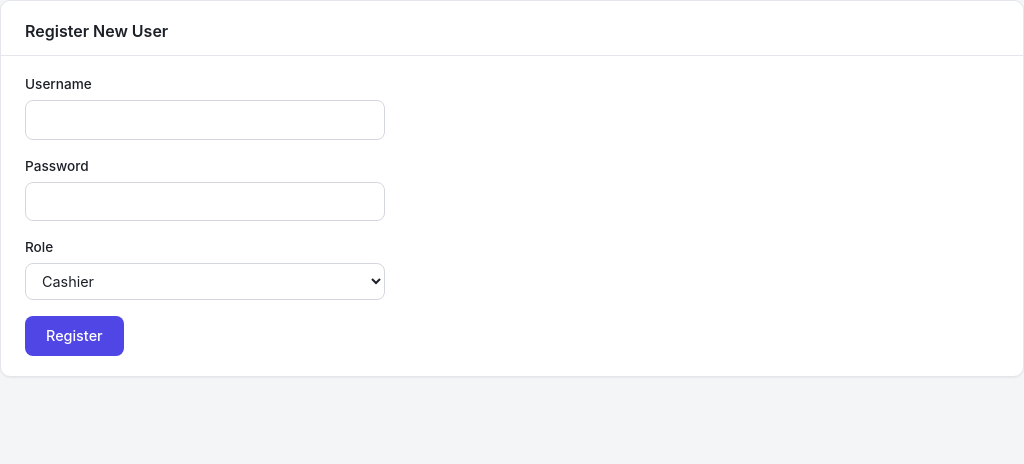
it: UserRegistration › registers a cashier and clears the form
// Leading/trailing spaces are trimmed before the request.
Type " newguy " into the field labelled "Username" at (205, 120), box top-left (25, 100), bottom-right (385, 140)
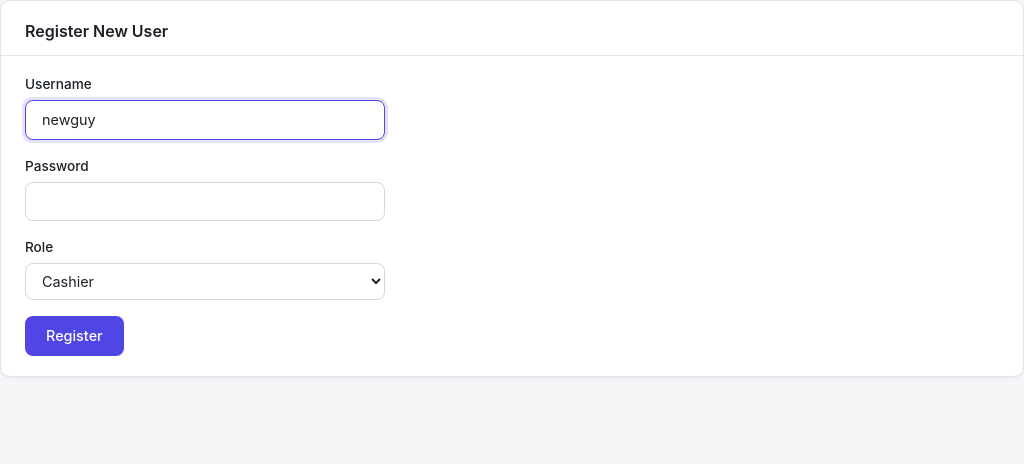
Type "secret" into the password field labelled "Password" at (205, 201), box top-left (25, 182), bottom-right (385, 221)
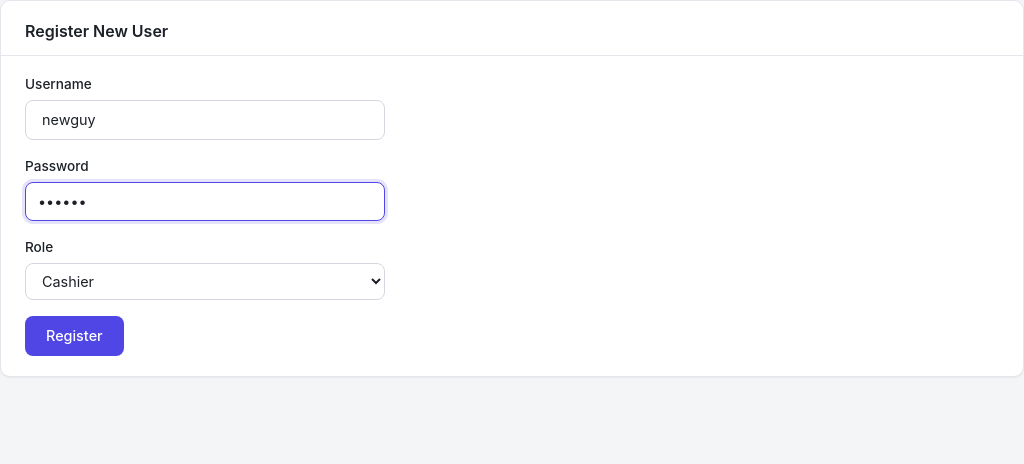
Click the button "Register" at (74, 336), box top-left (25, 316), bottom-right (124, 356)
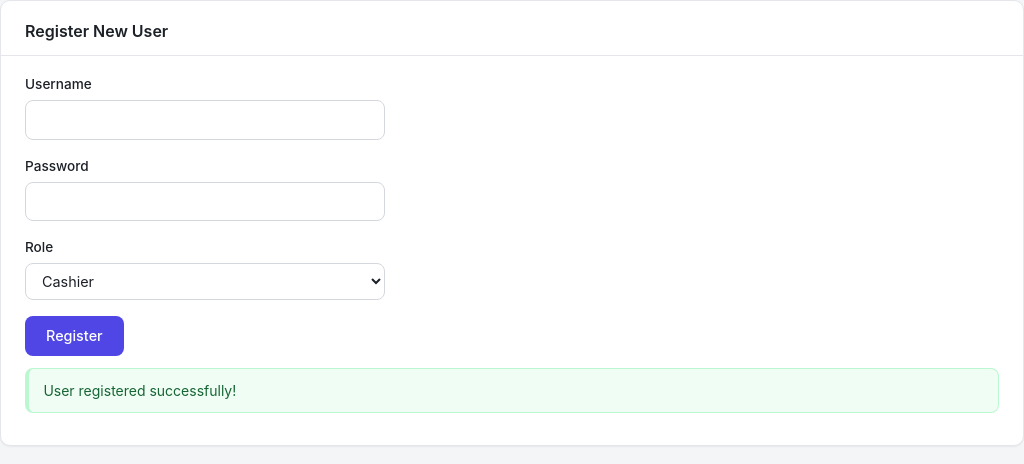
Expected: the text "User registered successfully!" is shown, top-left (25, 368), bottom-right (999, 413)
Expected: the field labelled "Username" is empty, top-left (25, 100), bottom-right (385, 140)
Expected: the password field labelled "Password" is empty, top-left (25, 182), bottom-right (385, 221)
